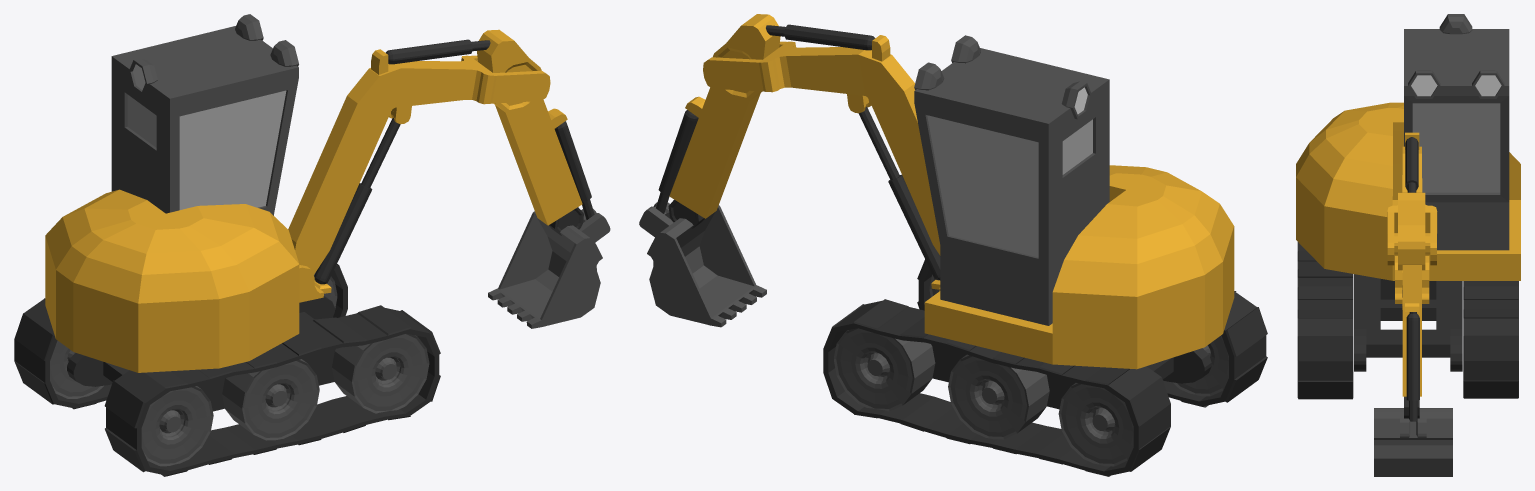
The picture shows the model from 3 angles, left to right: view 1: azimuth 30°, elevation 25°; view 2: azimuth 150°, elevation 25°; view 3: azimuth 270°, elevation 25°; orthographic projection. The views are drawn at different scales.
Parts seen in each view (by area): view 1: C-7, Plane, Cube.045, Cube.039, Cube.044, Cylinder.045, Cylinder.047, Cylinder.046, Plane.001, Cube.032, Cube.034, Cube.033 (+3 smaller); view 2: C-7, Plane.001, Cube.045, Cube.039, Cube.044, Cylinder.042, Cylinder.044, Cylinder.043, Plane, Cube.032, Cube.034, Cube.033 (+3 smaller); view 3: C-7, Plane, Cube.032, Plane.001, Cube.039, Cube.044, Cube.045, Cube.043, Cube.033, Cylinder.124.
Part boxes in pixels (left/top/right/bottom): C-7: left=45, top=14, right=331, bottom=372; Plane: left=104, top=305, right=440, bottom=476; Cube.045: left=288, top=49, right=550, bottom=274; Cube.039: left=488, top=209, right=610, bottom=328; Cube.044: left=477, top=29, right=582, bottom=225; Cylinder.045: left=332, top=333, right=429, bottom=413; Cylinder.047: left=222, top=359, right=319, bottom=440; Cylinder.046: left=141, top=386, right=213, bottom=466; Plane.001: left=14, top=264, right=347, bottom=409; Cube.032: left=67, top=296, right=335, bottom=411; Cube.034: left=314, top=118, right=400, bottom=284; Cube.033: left=385, top=39, right=490, bottom=64; C-7: left=914, top=35, right=1234, bottom=369; Plane.001: left=823, top=299, right=1170, bottom=476; Cube.045: left=703, top=35, right=940, bottom=255; Cube.039: left=639, top=202, right=766, bottom=327; Cube.044: left=669, top=14, right=780, bottom=218; Cylinder.042: left=834, top=328, right=935, bottom=411; Cylinder.044: left=948, top=354, right=1049, bottom=439; Cylinder.043: left=1058, top=383, right=1133, bottom=466; Plane: left=917, top=259, right=1267, bottom=407; Cube.032: left=931, top=344, right=1211, bottom=409; Cube.034: left=858, top=106, right=940, bottom=280; Cube.033: left=766, top=24, right=875, bottom=50; C-7: left=1296, top=29, right=1520, bottom=309; Plane: left=1297, top=242, right=1353, bottom=399; Cube.032: left=1354, top=274, right=1462, bottom=371; Plane.001: left=1463, top=281, right=1518, bottom=398; Cube.039: left=1374, top=408, right=1452, bottom=476; Cube.044: left=1394, top=192, right=1430, bottom=396; Cube.045: left=1387, top=132, right=1437, bottom=265; Cube.043: left=1406, top=312, right=1419, bottom=421; Cube.033: left=1405, top=137, right=1418, bottom=192; Cylinder.124: left=1439, top=14, right=1472, bottom=34.
Bounding box in the file's own units: 1815 × 1077 × 722.
